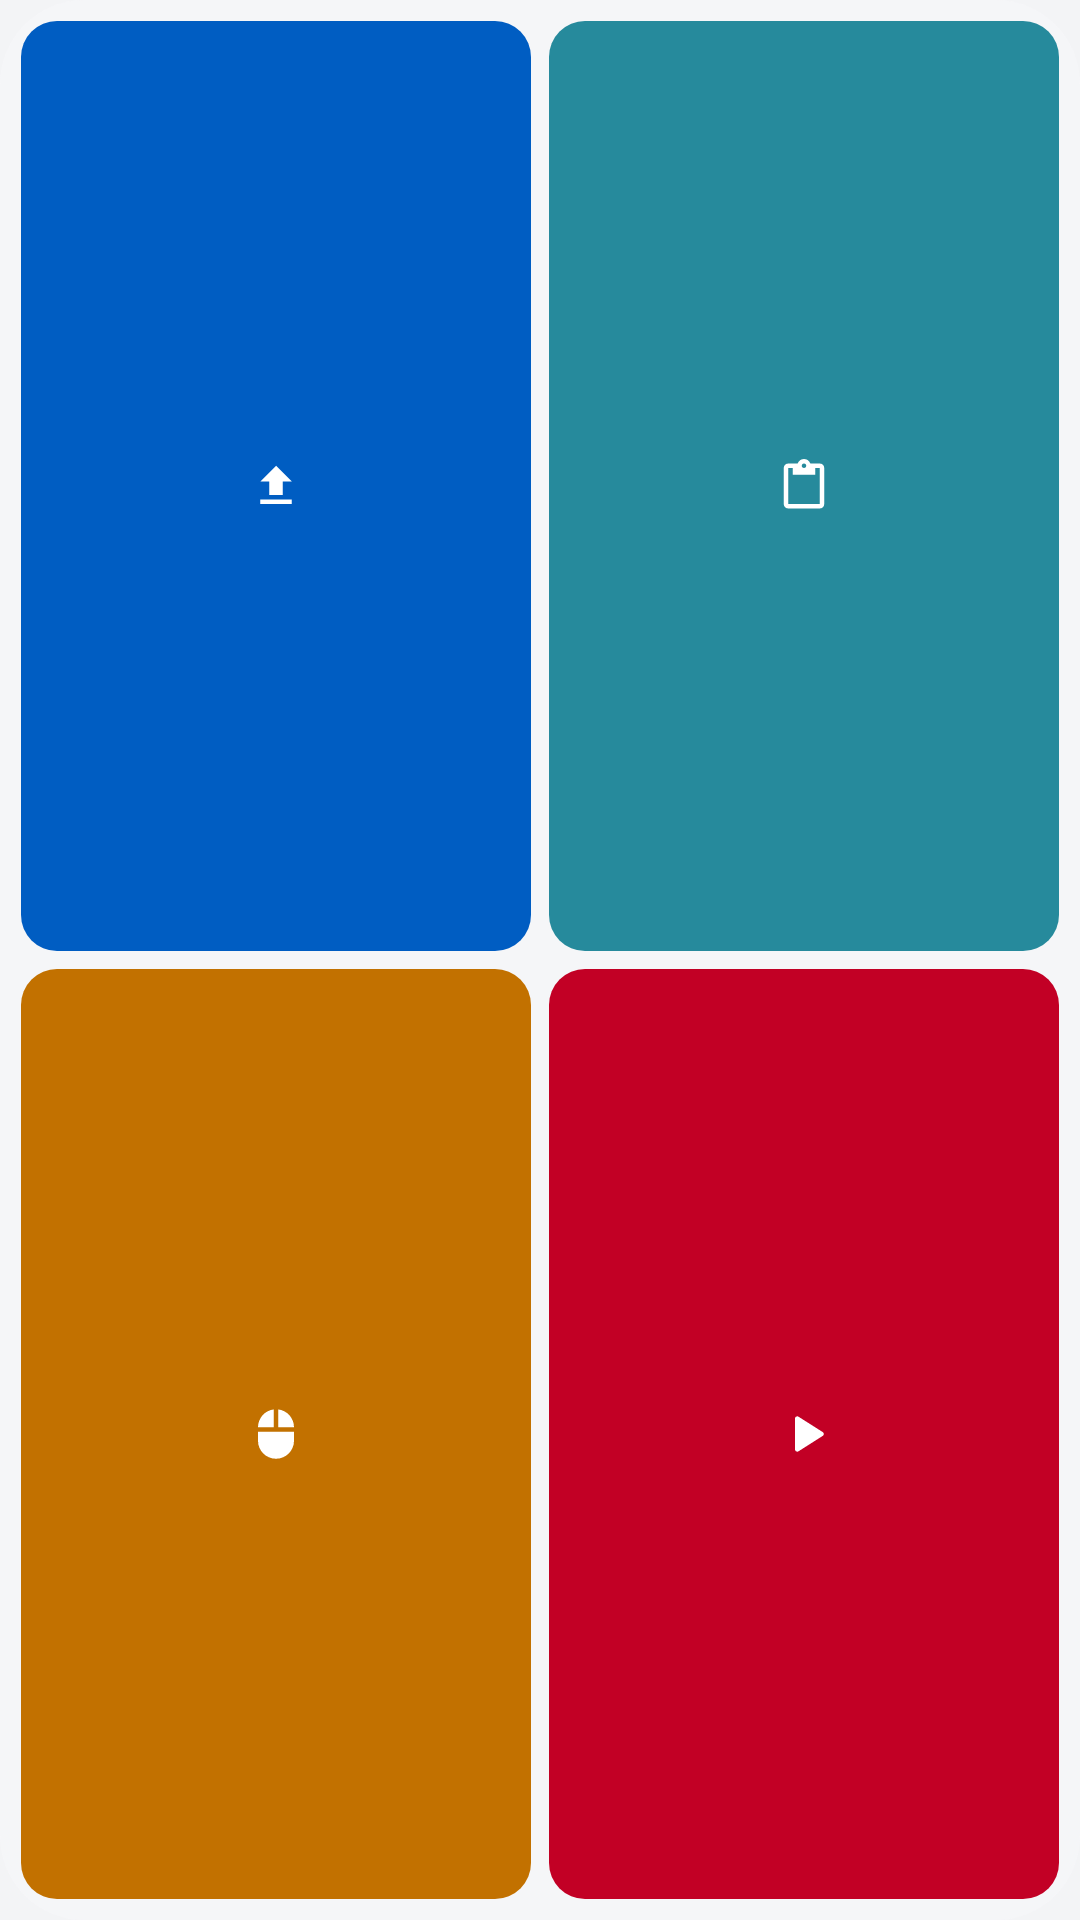

Named icons in this screenshot (1080w x 1920h) and their centers, [x,y]:
clipboard: [804,484]
mouse: [276,1434]
play: [809,1434]
upload: [276,485]
